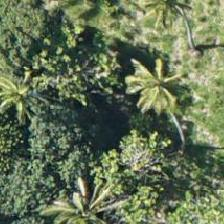coconut_tree: (115, 38, 205, 128), (134, 93, 223, 183), (143, 0, 223, 90), (0, 51, 63, 141), (47, 166, 137, 223)
